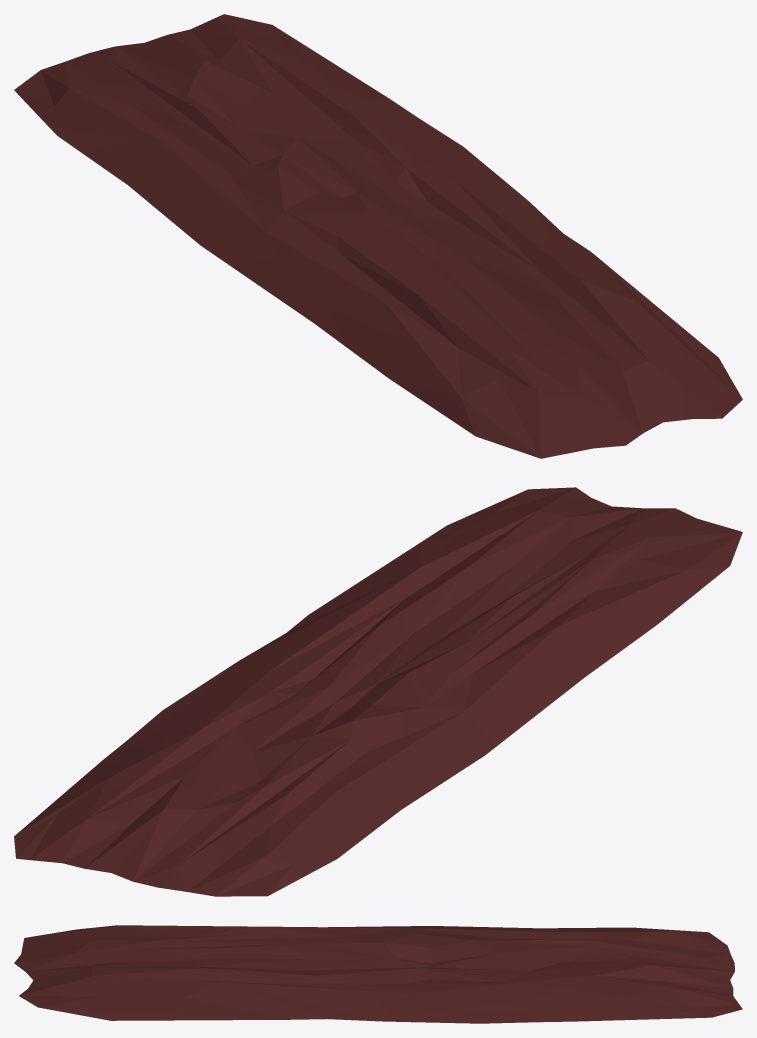
The model's file is entity118726.glb.
3 views of the same model, one above another, from view 1: azimuth 30°, elevation 25°; view 2: azimuth 150°, elevation 25°; view 3: azimuth 270°, elevation 25° (orthographic). The views are drawn at different scales.
Visible parts, largest first — view 1: node_SM_Env_DirtRoad_Straight_01 (5); view 2: node_SM_Env_DirtRoad_Straight_01 (5); view 3: node_SM_Env_DirtRoad_Straight_01 (5).
Part boxes in pixels (x1,y1,x2,y2): node_SM_Env_DirtRoad_Straight_01 (5): [14, 14, 742, 458]; node_SM_Env_DirtRoad_Straight_01 (5): [14, 487, 742, 896]; node_SM_Env_DirtRoad_Straight_01 (5): [14, 925, 742, 1023].
Size of the model in its own units: 5.36 by 0.6253 by 16.87.
1 material, 1 textured.
